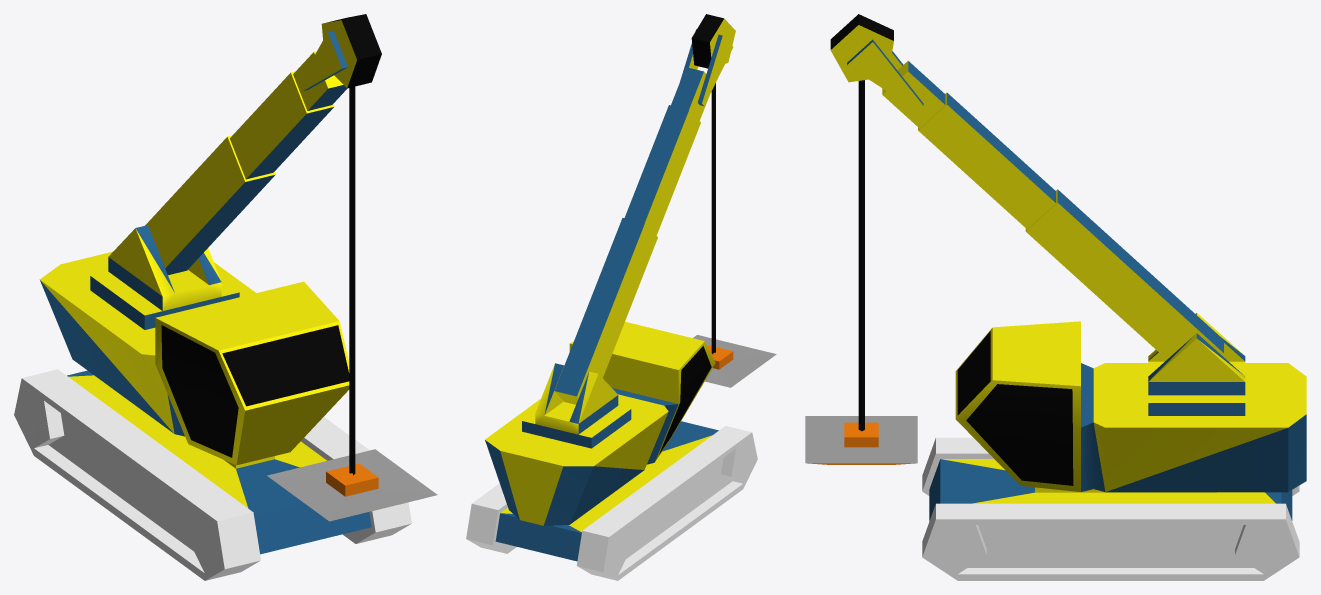
Rendered from CraneTracks.fbx.
3 renders of one model, left to right at view 1: azimuth 30°, elevation 25°; view 2: azimuth 150°, elevation 25°; view 3: azimuth 270°, elevation 25°, orthographic. The views are drawn at different scales.
Parts seen in each view (by area): view 1: CraneChassis, CraneTracks, ArmA, Rotater, Magnet, ArmB, Reel, RotaterReel, ArmC; view 2: CraneChassis, CraneTracks, ArmA, Rotater, ArmB, ArmC, Magnet, RotaterReel, Reel; view 3: CraneChassis, CraneTracks, ArmA, ArmB, Rotater, Magnet, ArmC, Reel, RotaterReel.
Boxes of the visible parts, left/top/right/bottom form: CraneChassis: left=39, top=251, right=349, bottom=465; CraneTracks: left=14, top=369, right=411, bottom=580; ArmA: left=145, top=135, right=275, bottom=275; Rotater: left=90, top=225, right=239, bottom=329; Magnet: left=267, top=449, right=437, bottom=521; ArmB: left=230, top=71, right=334, bottom=179; Reel: left=349, top=86, right=355, bottom=475; RotaterReel: left=321, top=14, right=381, bottom=88; ArmC: left=293, top=30, right=347, bottom=110; CraneChassis: left=485, top=321, right=715, bottom=525; CraneTracks: left=466, top=421, right=757, bottom=580; ArmA: left=554, top=218, right=657, bottom=404; Rotater: left=522, top=363, right=631, bottom=448; ArmB: left=624, top=105, right=700, bottom=235; ArmC: left=671, top=29, right=733, bottom=120; Magnet: left=693, top=335, right=776, bottom=387; RotaterReel: left=691, top=14, right=735, bottom=68; Reel: left=711, top=83, right=715, bottom=354; CraneChassis: left=955, top=321, right=1306, bottom=492; CraneTracks: left=922, top=437, right=1299, bottom=580; ArmA: left=1025, top=189, right=1223, bottom=359; ArmB: left=918, top=92, right=1055, bottom=229; Rotater: left=1148, top=313, right=1245, bottom=415; Magnet: left=805, top=416, right=917, bottom=464; ArmC: left=847, top=39, right=945, bottom=128; Reel: left=858, top=80, right=864, bottom=431; RotaterReel: left=830, top=14, right=893, bottom=82.
Bounding box in the file's own units: 177 × 525 × 458.
1 material, 1 textured.
